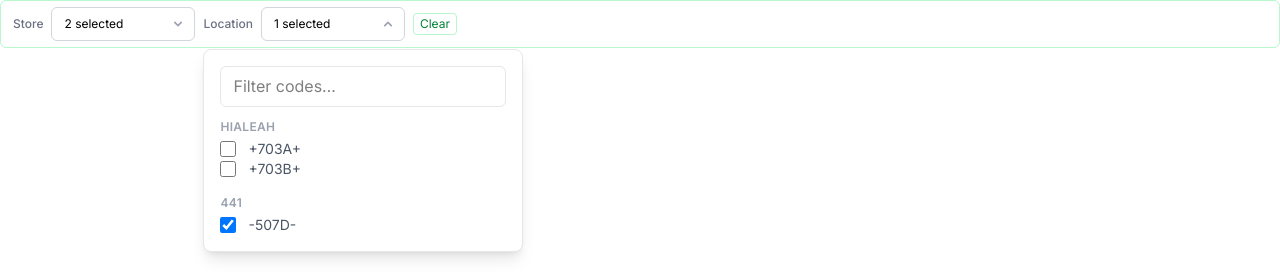
Test: the shelf list › restores the list when the input is cleared, keeping the selection
In the search field with placeholder "Filter codes…": (363, 86) left=220, top=66, right=506, bottom=107, type "703"
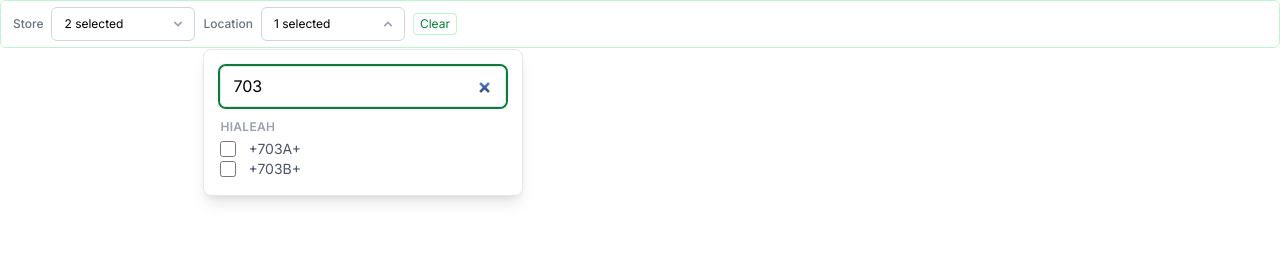
Clear the search field with placeholder "Filter codes…": (363, 86) left=220, top=66, right=506, bottom=107
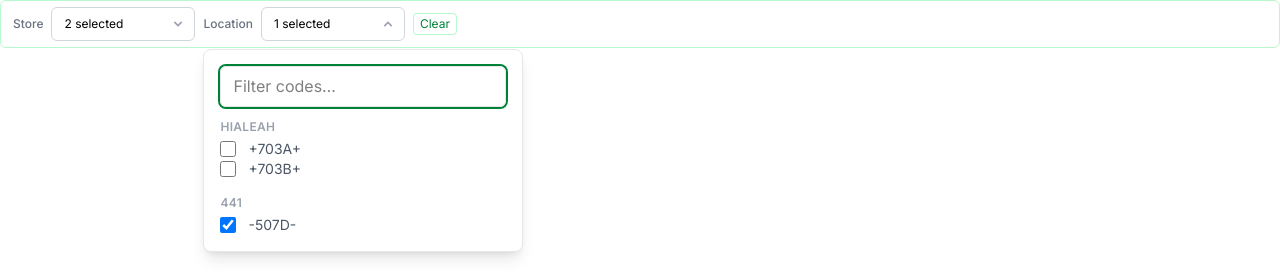
expect the checkbox labelled "-507D-" is checked: met, box left=220, top=217, right=236, bottom=233
